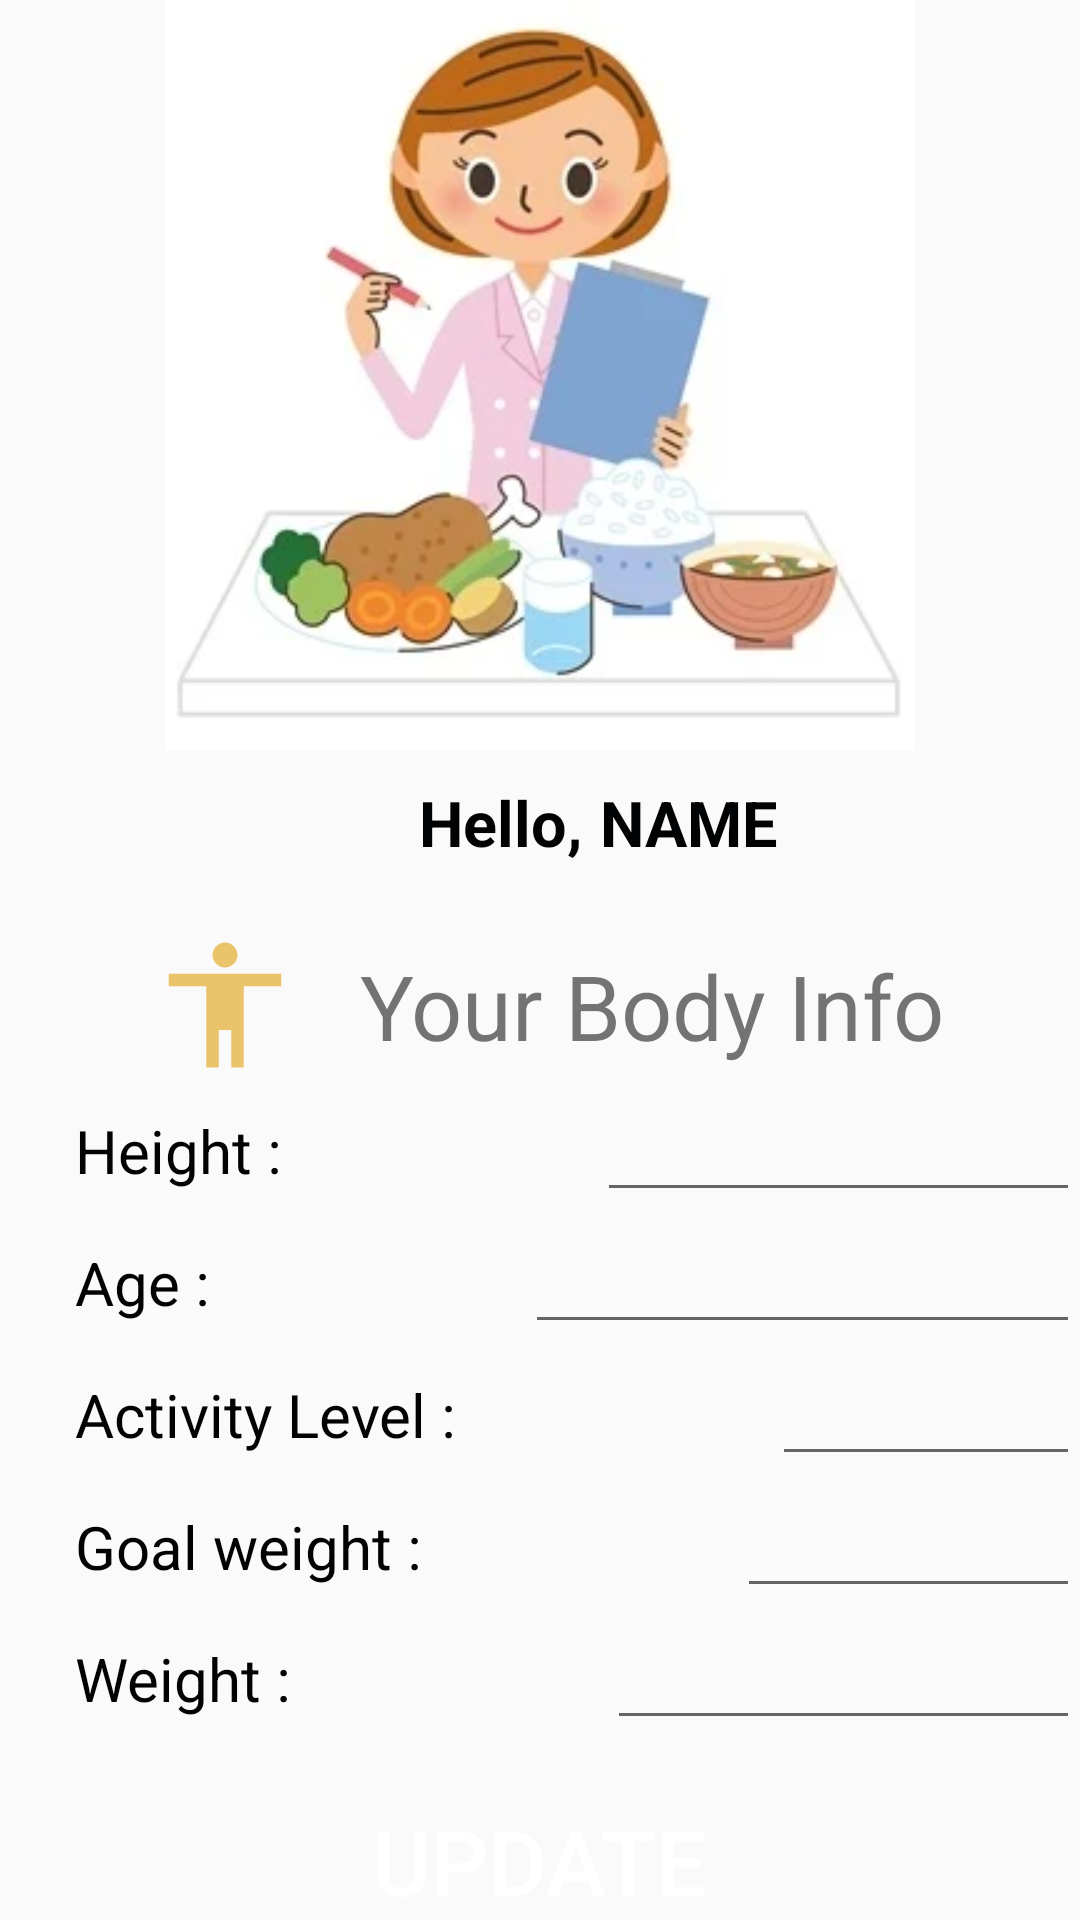

Where to tap for icons on this 1080×1920 app screen, as point (x, y):
accessibility: point (225, 1005)
